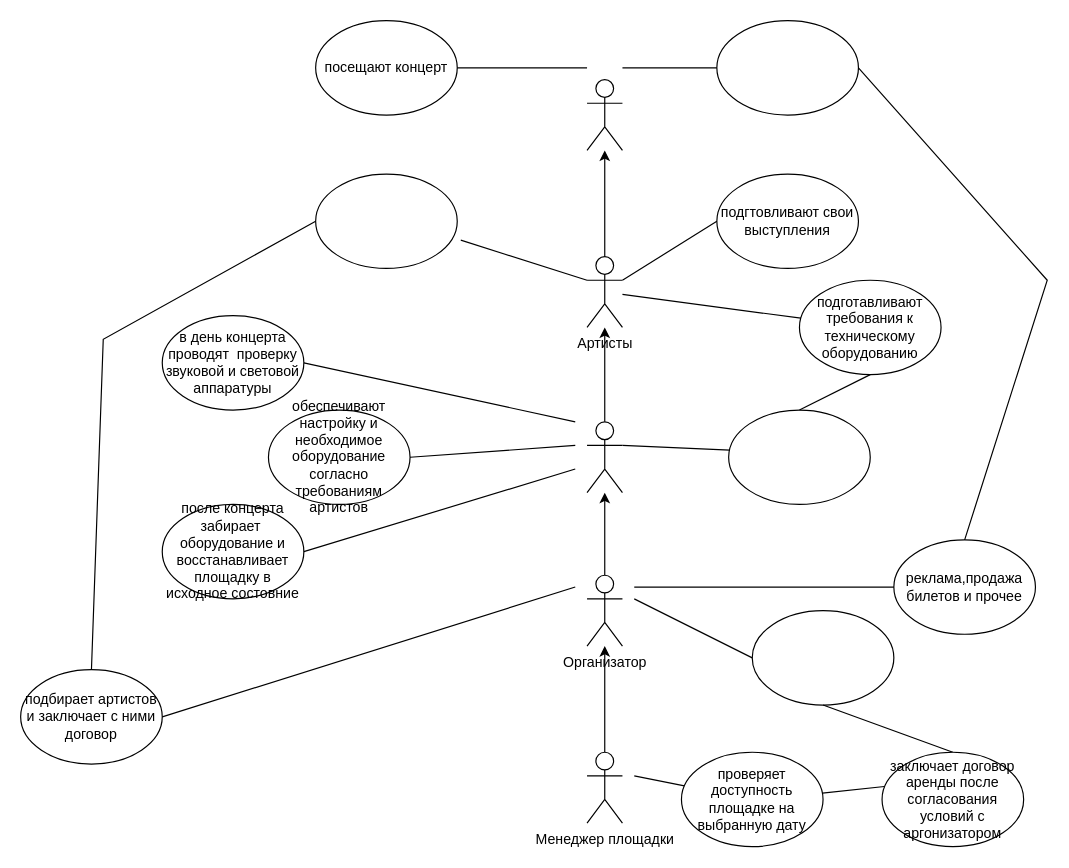
This 1069x868 diagram has some shape labels left out. Here are the shapes that lost their labels. From the top down, the centre of each, then its label:
(787,67): приобретают билеты
(604,114): Зрители
(385,220): подписывают контракты с огранизатором
(604,457): Технический персонал
(798,456): подготавливают сцену и необходимое оборудование
(822,657): подписывает договор аренды
